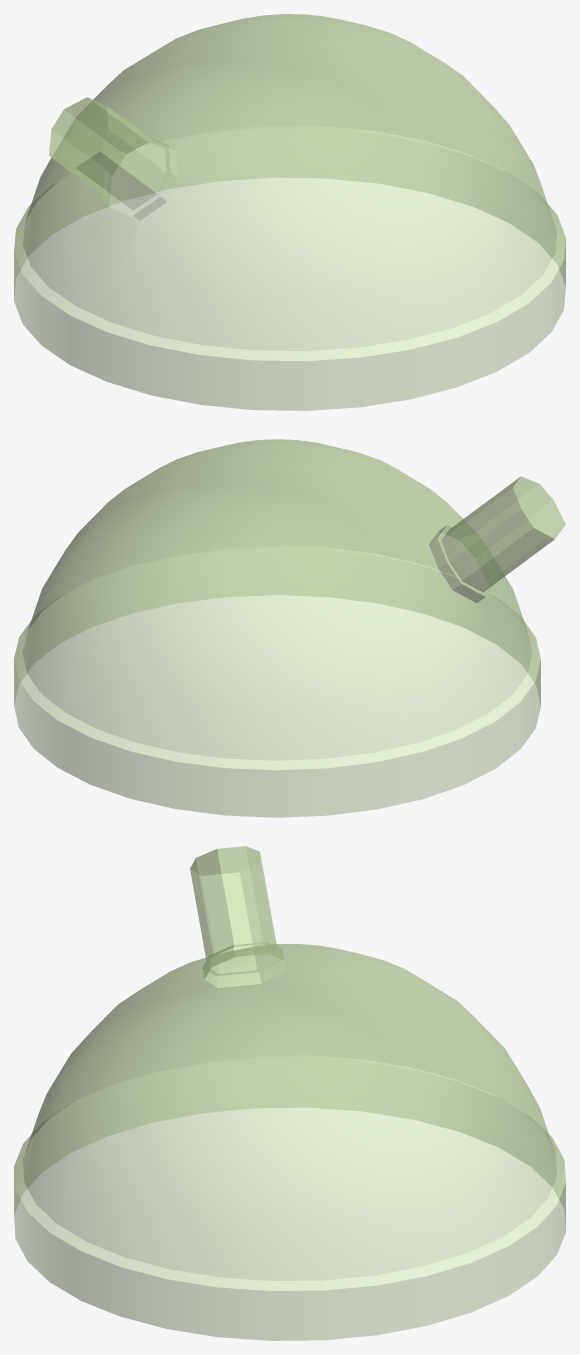
File: coc2.fbx
The picture shows the model from 3 angles, top to bottom: view 1: azimuth 30°, elevation 25°; view 2: azimuth 150°, elevation 25°; view 3: azimuth 270°, elevation 25°; orthographic projection. The views are drawn at different scales.
Visible parts, largest first — view 1: Sphere.000; view 2: Sphere.000; view 3: Sphere.000.
Part boxes in pixels (left/top/right/bottom): Sphere.000: left=14, top=14, right=565, bottom=410; Sphere.000: left=14, top=439, right=565, bottom=817; Sphere.000: left=14, top=846, right=565, bottom=1340.
Size of the model in its own units: 74.46 by 37.8 by 70.44.
